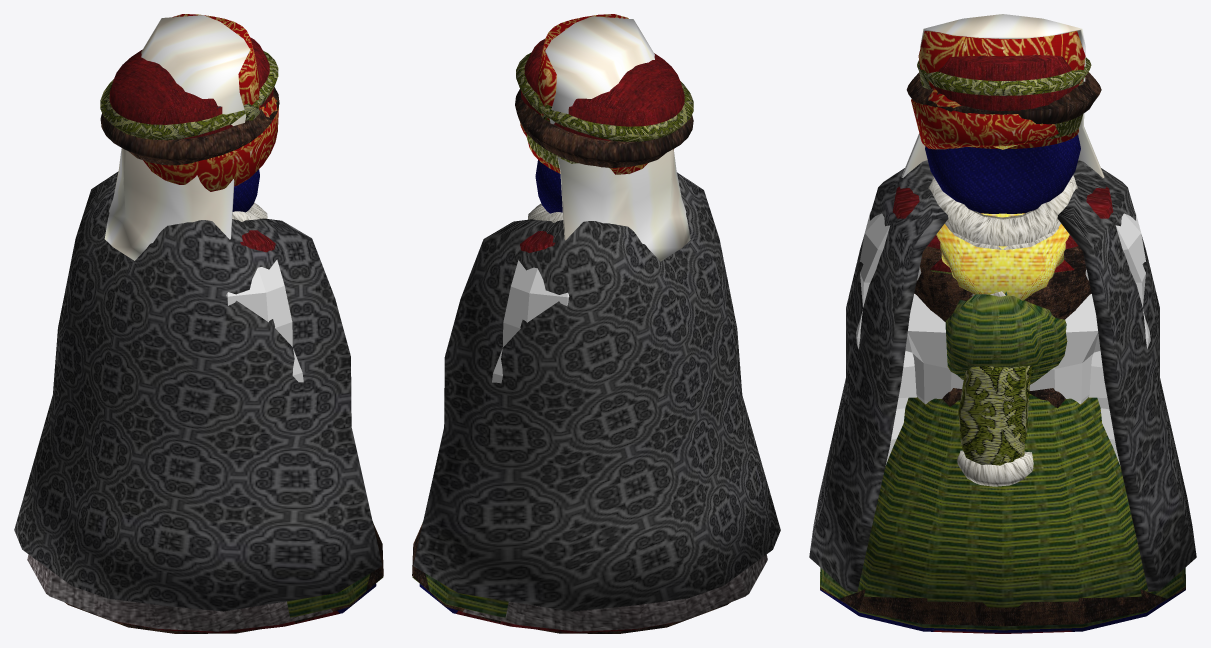
File: Authority2.fbx
3 renders of one model, left to right at view 1: azimuth 30°, elevation 25°; view 2: azimuth 150°, elevation 25°; view 3: azimuth 270°, elevation 25°, orthographic. The views are drawn at different scales.
Visible parts, largest first — view 1: Cape.002, Veil.001, Robe.012, Hat.002, Hat.008, Hat.001, Hat.005, Robe.002, Robe.007, Hat.003, Robe.010, Cloth.001 (+3 smaller); view 2: Cape.002, Veil.001, Robe.012, Hat.002, Hat.008, Hat.005, Robe.002, Robe.007, Hat.003, Cloth.001, Robe.010, Hat.006 (+2 smaller); view 3: Cape.002, Robe.007, Cloth.001, Robe.032, Robe.001, Robe.010, Sleeve.029, Collar.004, Hat.001, Hat.002, Robe.002, Collar.018 (+10 smaller).
Boxes of the visible parts, left/top/right/bottom form: Cape.002: left=14, top=171, right=382, bottom=611; Veil.001: left=104, top=15, right=250, bottom=260; Robe.012: left=27, top=554, right=332, bottom=631; Hat.002: left=109, top=37, right=273, bottom=124; Hat.008: left=100, top=87, right=279, bottom=165; Hat.001: left=143, top=96, right=278, bottom=191; Hat.005: left=100, top=50, right=278, bottom=140; Robe.002: left=226, top=259, right=303, bottom=382; Robe.007: left=287, top=521, right=383, bottom=617; Hat.003: left=172, top=14, right=260, bottom=110; Robe.010: left=65, top=523, right=383, bottom=633; Cloth.001: left=232, top=169, right=259, bottom=212; Cape.002: left=413, top=172, right=780, bottom=611; Veil.001: left=545, top=16, right=690, bottom=261; Robe.012: left=463, top=554, right=767, bottom=631; Hat.002: left=520, top=38, right=684, bottom=126; Hat.008: left=515, top=88, right=693, bottom=168; Hat.005: left=516, top=52, right=693, bottom=141; Robe.002: left=492, top=260, right=569, bottom=383; Robe.007: left=412, top=522, right=508, bottom=617; Hat.003: left=537, top=14, right=628, bottom=120; Cloth.001: left=535, top=160, right=562, bottom=213; Robe.010: left=412, top=524, right=730, bottom=633; Hat.006: left=528, top=106, right=620, bottom=173; Cape.002: left=809, top=160, right=1196, bottom=591; Robe.007: left=820, top=393, right=1185, bottom=630; Cloth.001: left=925, top=134, right=1080, bottom=213; Robe.032: left=945, top=294, right=1067, bottom=384; Robe.001: left=885, top=294, right=1120, bottom=465; Robe.010: left=820, top=586, right=1185, bottom=626; Sleeve.029: left=958, top=365, right=1032, bottom=465; Collar.004: left=936, top=213, right=1069, bottom=300; Hat.001: left=911, top=88, right=1058, bottom=149; Hat.002: left=934, top=55, right=1078, bottom=110; Robe.002: left=856, top=211, right=1150, bottom=397; Collar.018: left=928, top=175, right=1077, bottom=246.
Size of the model in its own units: 129 by 203 by 120.
